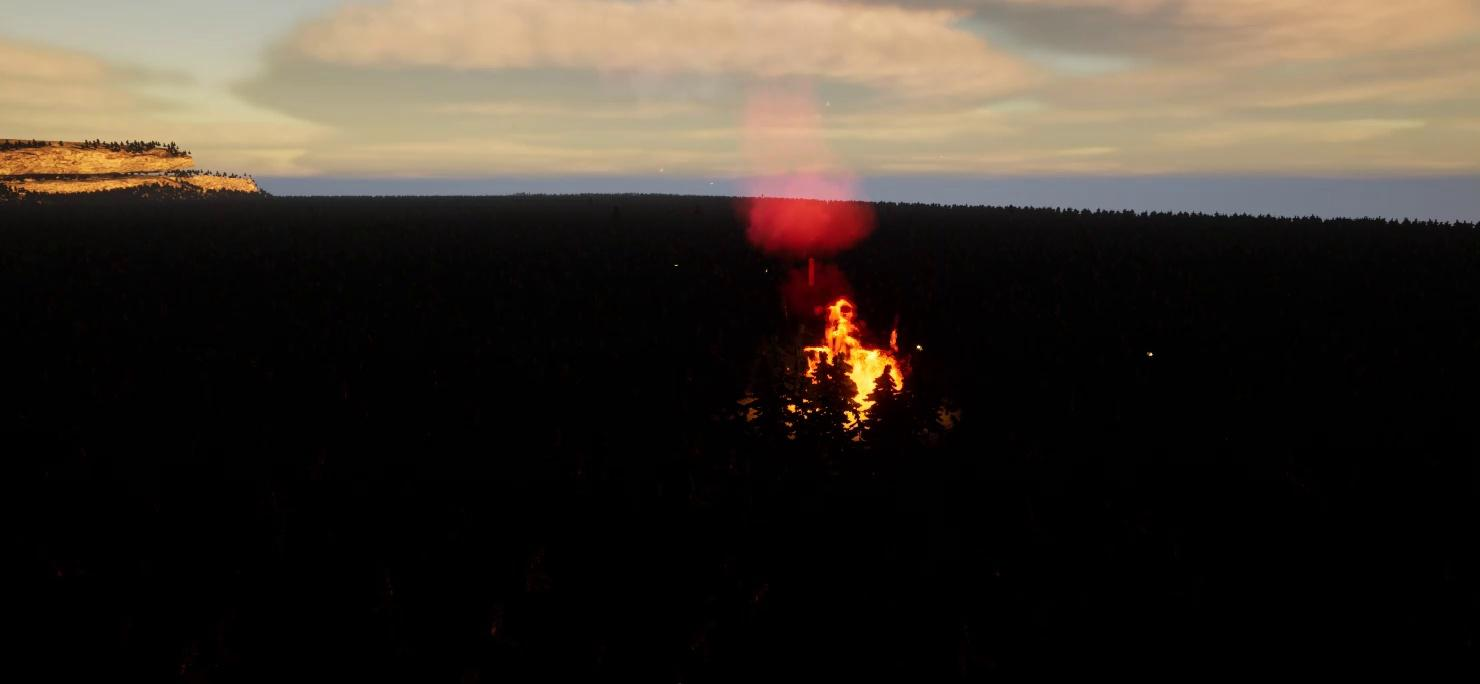fire: (790, 298, 923, 427)
smoke: (741, 60, 874, 255)
